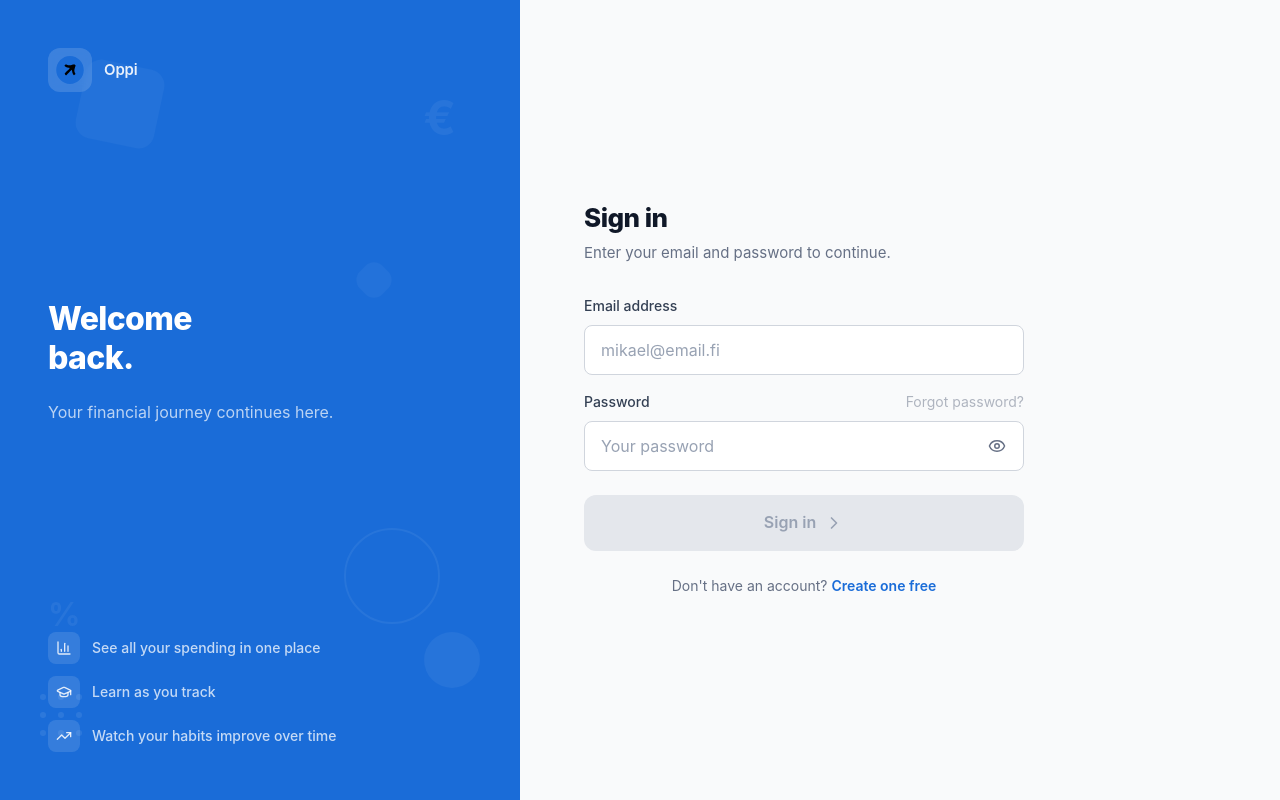
Scenario: LoginPage — form reset › clears the email error as soon as the user edits the email field
In the field labelled "Email address": (804, 350) [585,326,1023,374], type "bad"
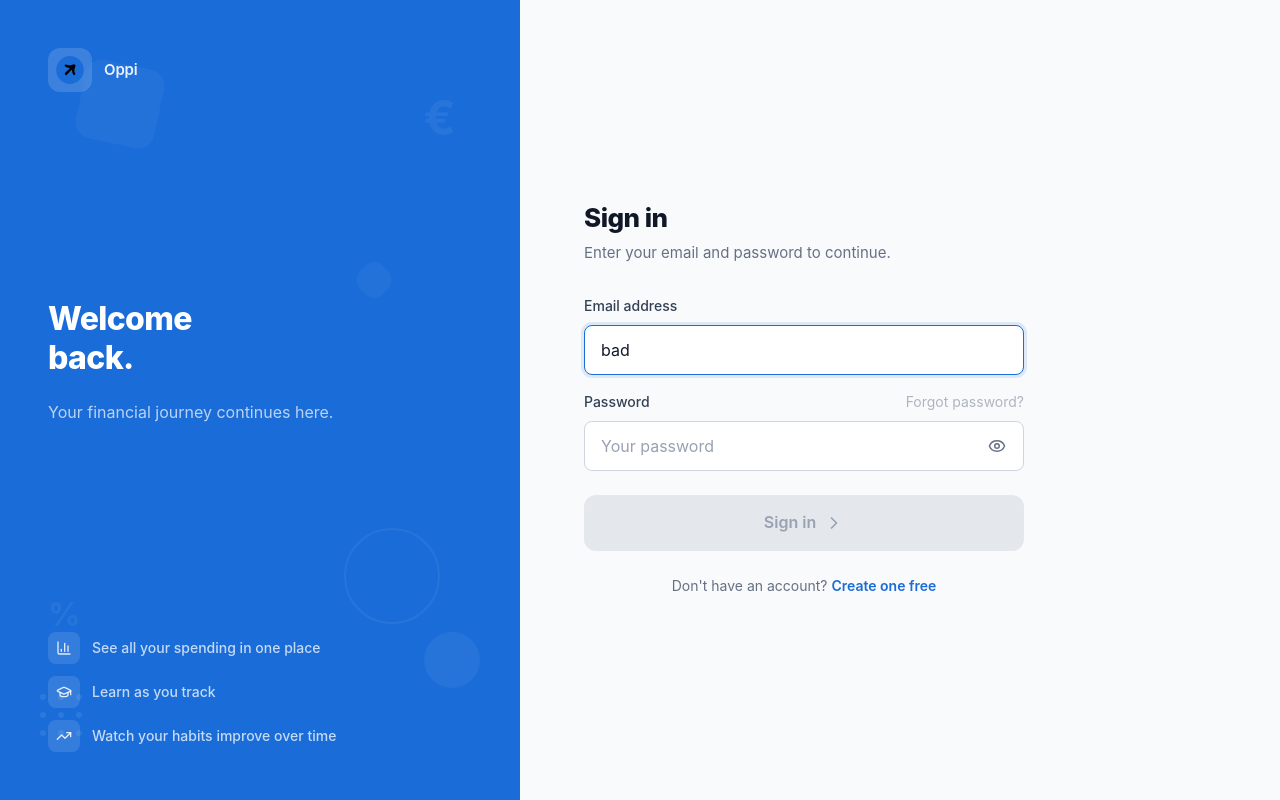
In the password field labelled "Password": (780, 446) [585,422,975,470], type "secret"
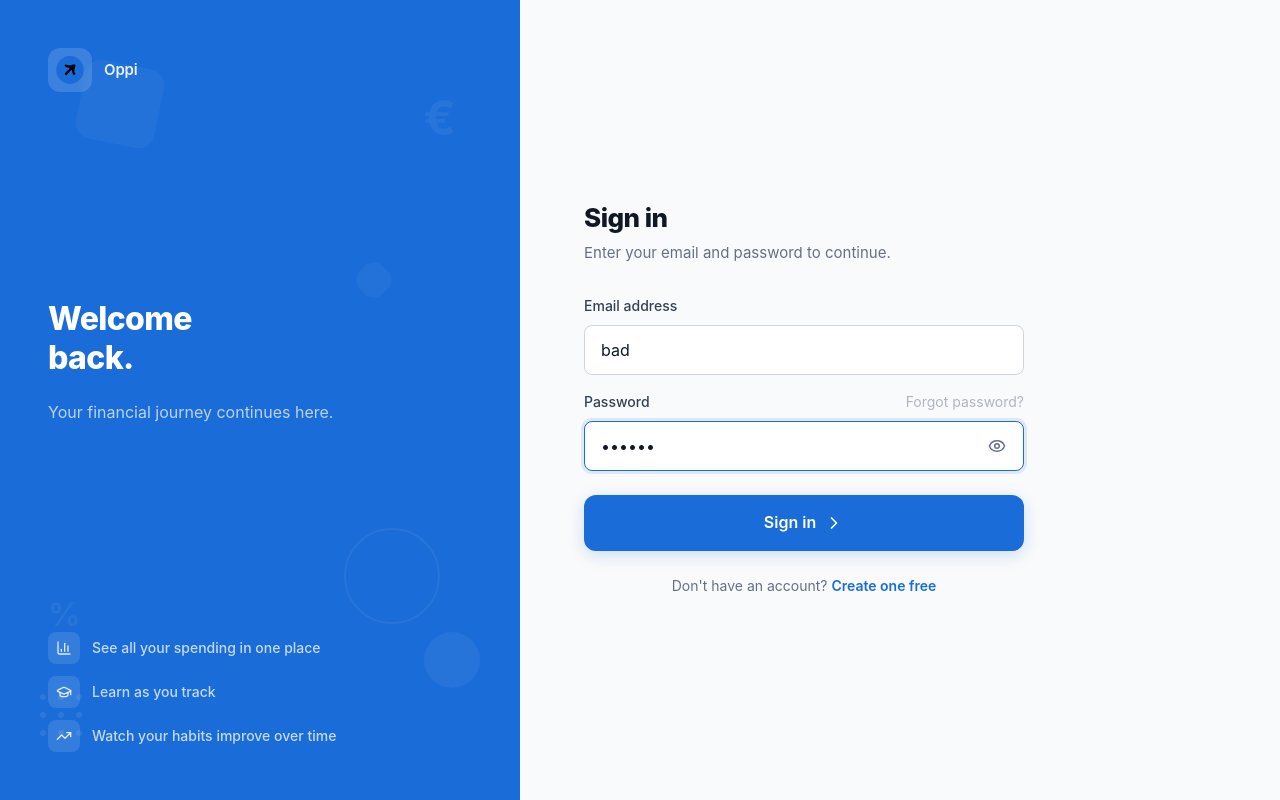
Click the button "Sign in": (804, 523) [584,495,1024,551]
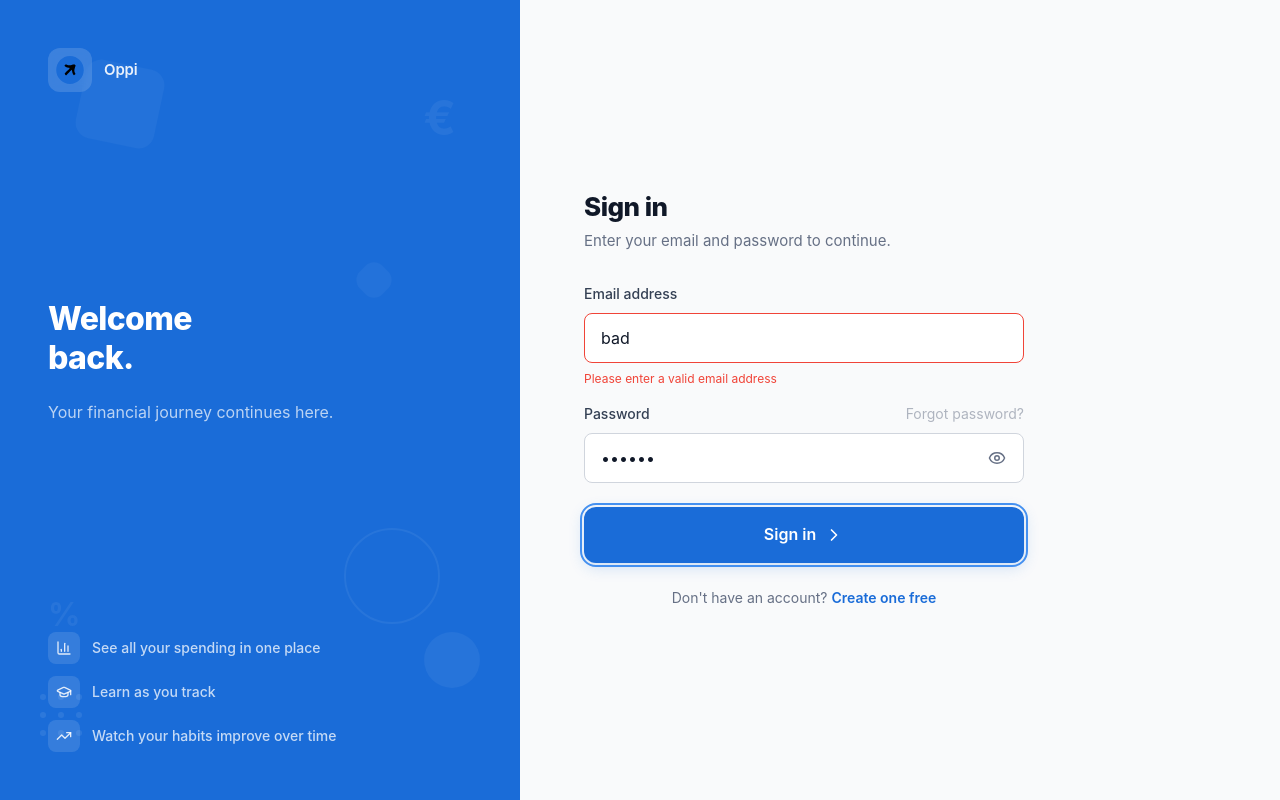
Check: the text "Please enter a valid email address" is shown, box [584,371,777,386]
In the field labelled "Email address": (804, 338) [585,314,1023,362], type "x"
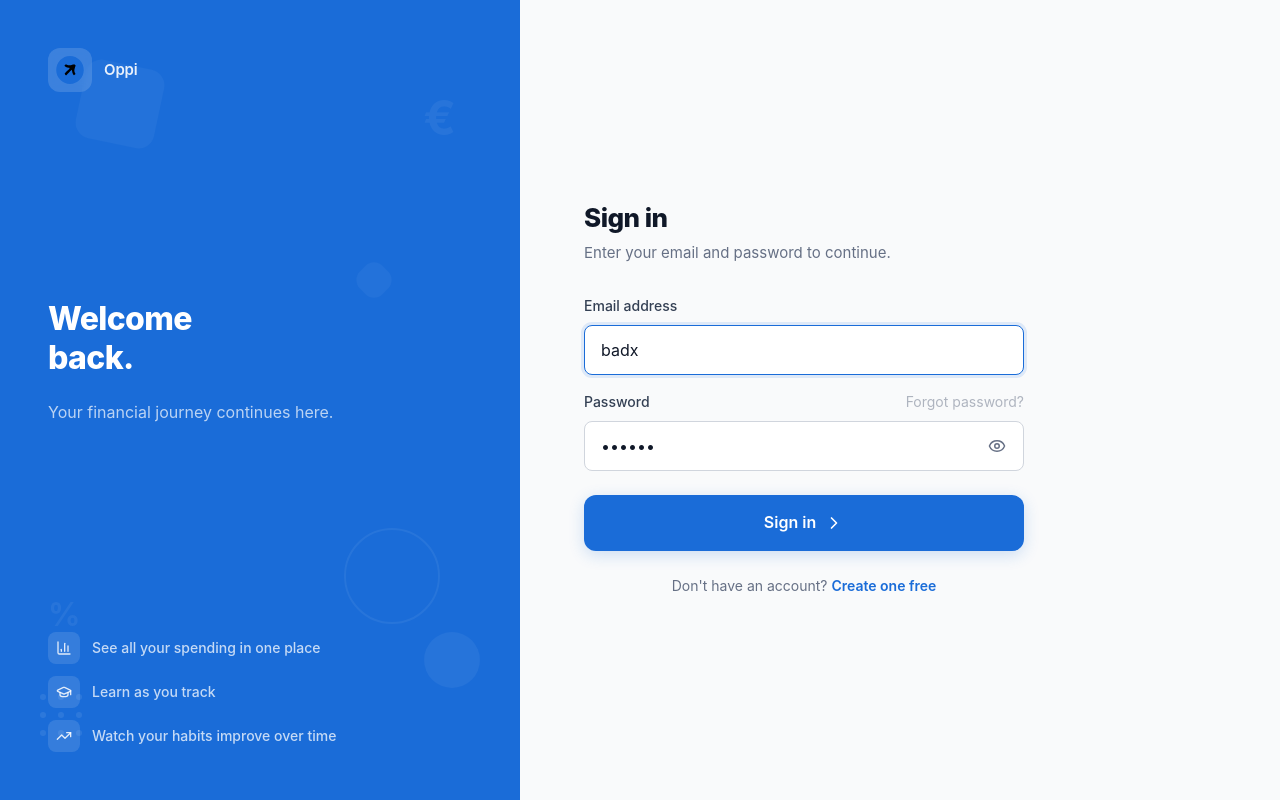
Check: the text "Please enter a valid email address" is gone
